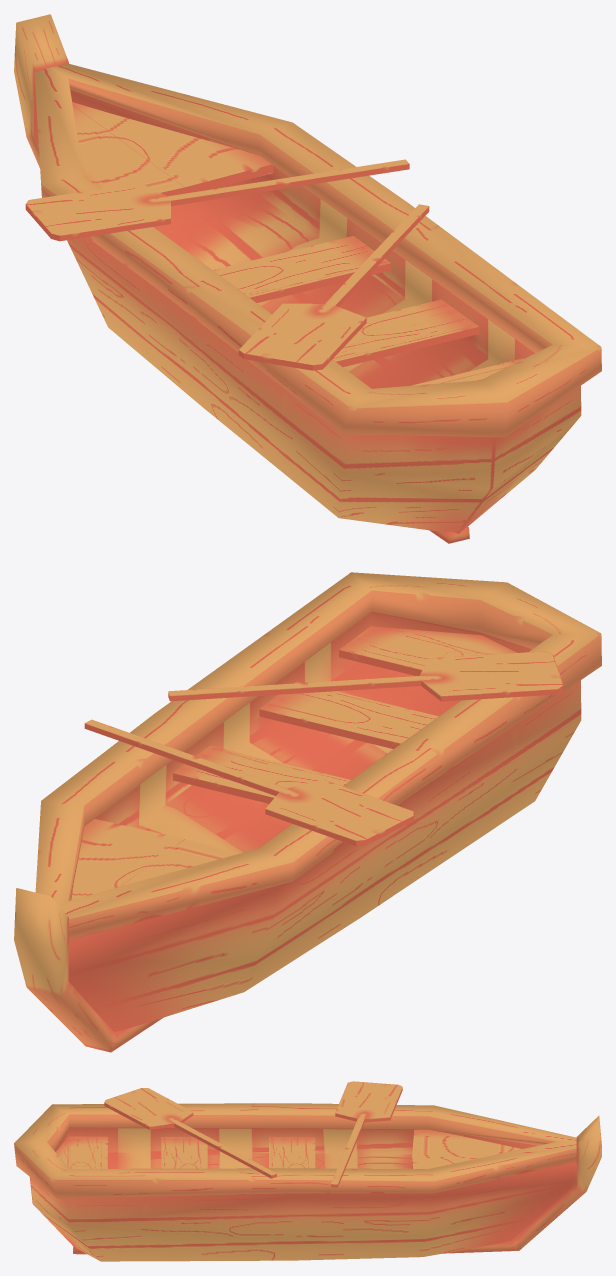
The model's file is low_poly_boat.glb.
3 views of the same model, one above another, from view 1: azimuth 30°, elevation 25°; view 2: azimuth 150°, elevation 25°; view 3: azimuth 270°, elevation 25° (orthographic). The views are drawn at different scales.
Visible parts, largest first — view 1: Object_2; view 2: Object_2; view 3: Object_2.
Part boxes in pixels (left/top/right/bottom): Object_2: left=14, top=14, right=601, bottom=543; Object_2: left=14, top=572, right=601, bottom=1052; Object_2: left=14, top=1081, right=601, bottom=1261.
Bounding box in the file's own units: 4.64 × 2.84 × 11.18.
Materials: 1 (1 with a texture image).
